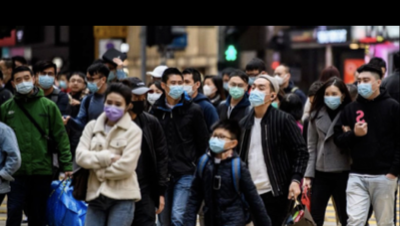with_mask: (102, 96, 124, 121), (247, 81, 270, 104), (207, 129, 229, 153), (355, 75, 375, 96), (13, 72, 33, 93), (322, 88, 340, 108), (166, 77, 183, 98), (130, 93, 147, 114), (37, 68, 55, 87), (228, 79, 245, 99), (146, 86, 161, 104), (85, 74, 99, 91), (244, 70, 259, 85), (271, 70, 286, 84), (182, 75, 193, 94), (201, 80, 213, 94)
without_mask: (67, 77, 84, 90)
